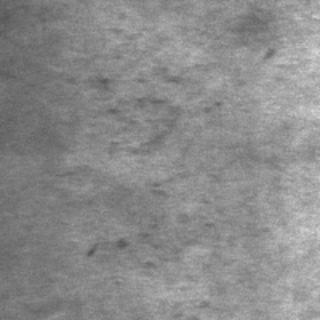rolled pit: (100, 60, 220, 156), (114, 176, 212, 268)
